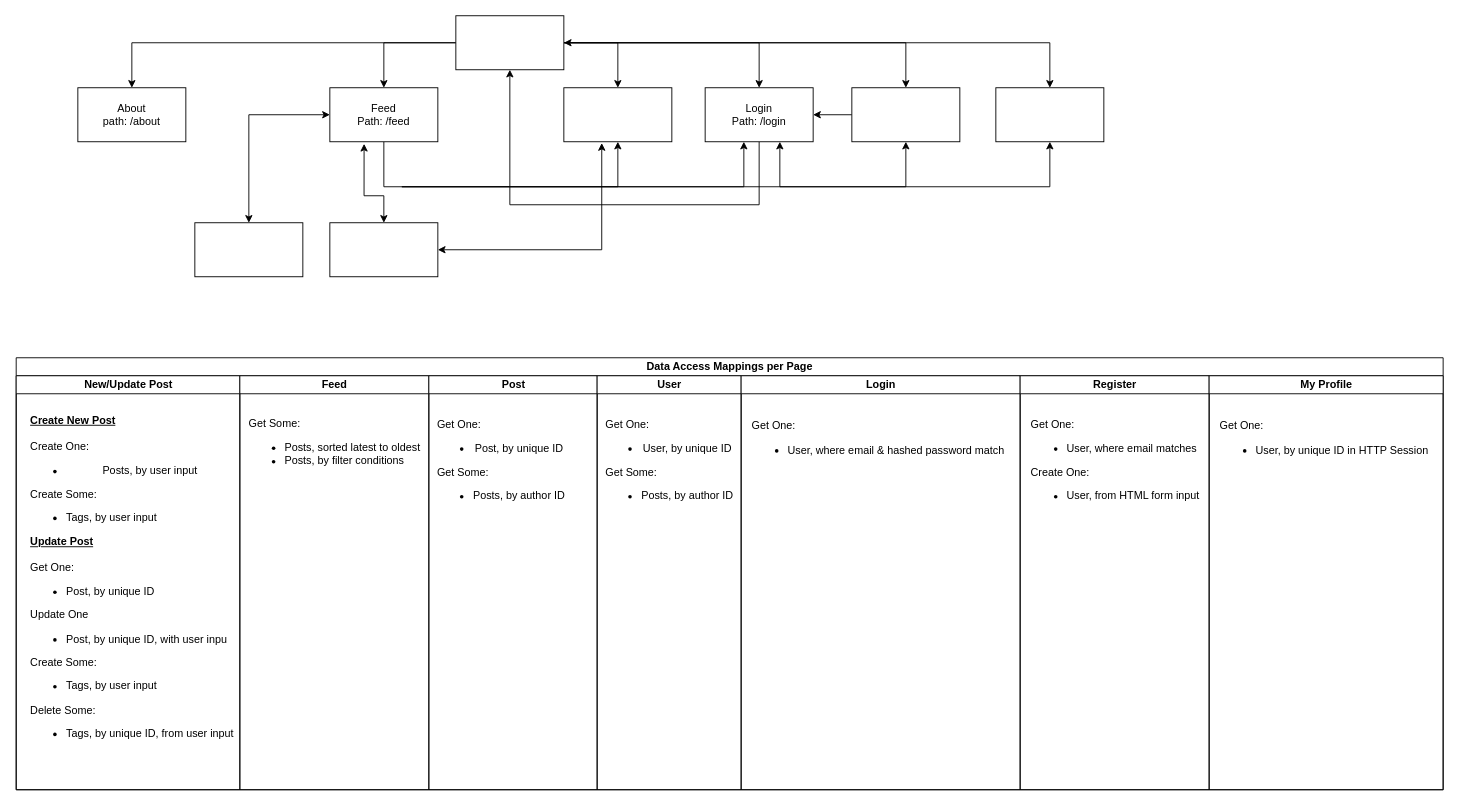
This 1459x806 diagram has some shape labels left out. Each missing label, with the centre of its shape:
"Blog Home Path: /" goes at pixel 509 42.
"My Profile Path: /me" goes at pixel 1049 114.
"New/Update Post Path: /write or Path: /write/[id]" goes at pixel 248 249.
"Post path: /post/[id]" goes at pixel 383 249.
"Register Path: /register" goes at pixel 905 114.
"User path: /profile/[id]" goes at pixel 617 114.
